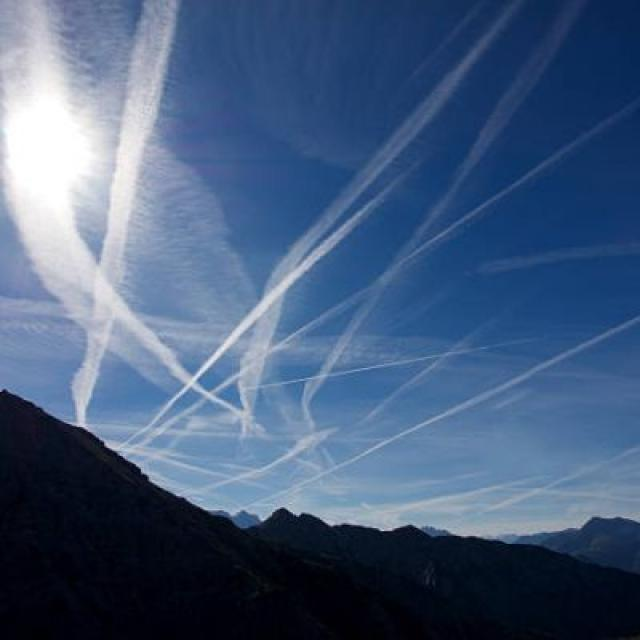Ct: (1, 1, 640, 381)
